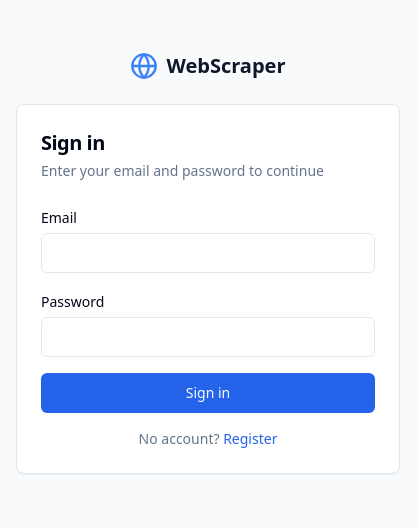
Scenario: Login page › displays an error alert when login fails
The width and height of the screenshot is (417, 528).
Type "bad@example.com" into the field labelled "Email" at (208, 253), box [41,233,375,273]
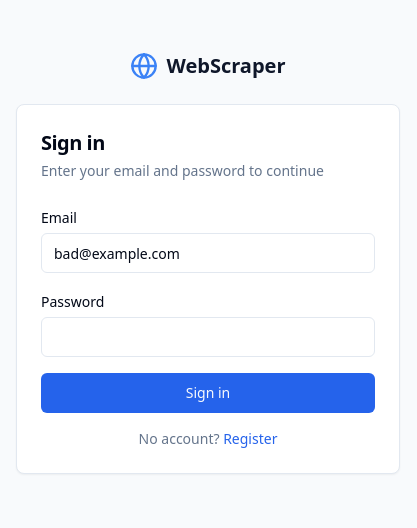
Type "wrongpass" into the password field labelled "Password" at (208, 337), box [41,317,375,357]
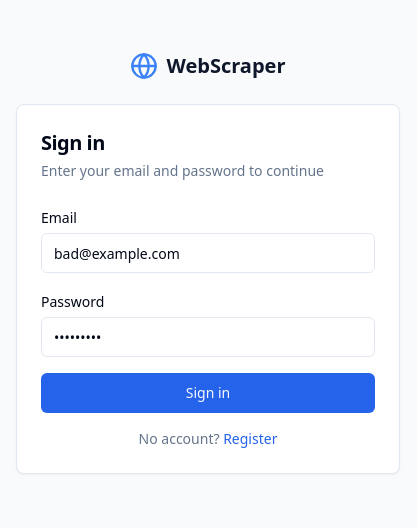
Click the button "Sign in" at (208, 393), box [41,373,375,413]
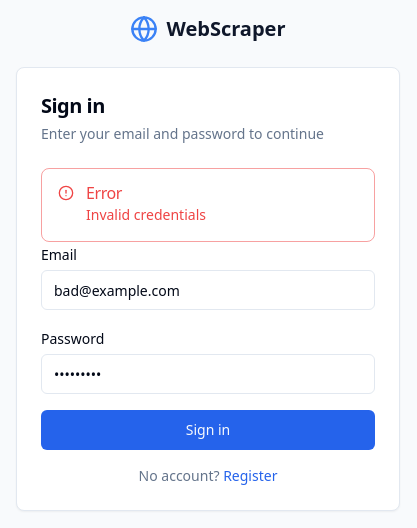
expect the text "Invalid credentials" is shown: met, box [86,205,206,224]
